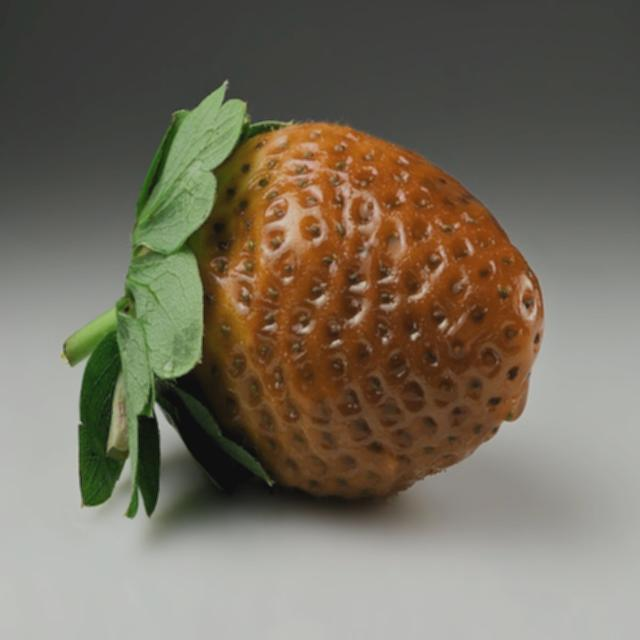strawberry: (64, 84, 544, 516)
